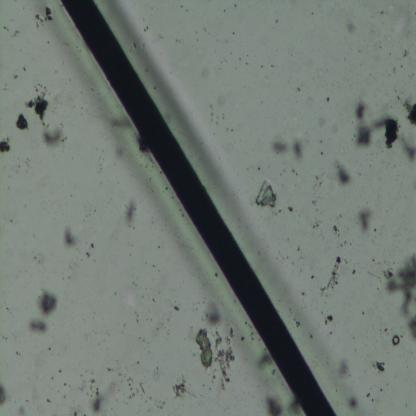Background material: (381, 252, 416, 347), (354, 102, 398, 150), (105, 115, 136, 168), (213, 325, 236, 393), (75, 370, 104, 412), (22, 84, 50, 124), (269, 134, 304, 162), (194, 326, 214, 370), (201, 96, 230, 126), (254, 177, 278, 210), (265, 392, 301, 414), (321, 256, 342, 292), (41, 126, 68, 150), (353, 206, 374, 233), (170, 376, 193, 400), (397, 134, 416, 162), (399, 99, 416, 129), (37, 291, 58, 315), (334, 160, 352, 187), (61, 224, 80, 248), (24, 316, 48, 335), (82, 235, 100, 260), (310, 170, 321, 208), (32, 7, 53, 26), (0, 20, 22, 38), (256, 351, 274, 372), (124, 374, 138, 399), (334, 358, 350, 379), (204, 304, 221, 322), (126, 199, 137, 226), (15, 113, 29, 132), (311, 216, 327, 232), (369, 360, 386, 374), (344, 19, 358, 36), (130, 34, 141, 53), (347, 394, 359, 411), (0, 137, 12, 153), (0, 382, 7, 408), (360, 389, 373, 403), (323, 314, 334, 327), (400, 47, 410, 60), (293, 314, 302, 328), (391, 334, 401, 346), (332, 224, 341, 237), (350, 264, 359, 274), (322, 94, 332, 103), (287, 204, 295, 215), (296, 84, 302, 95), (173, 304, 180, 312), (213, 270, 219, 279), (20, 67, 27, 72), (13, 72, 17, 80)
Hair: (60, 0, 336, 416)
